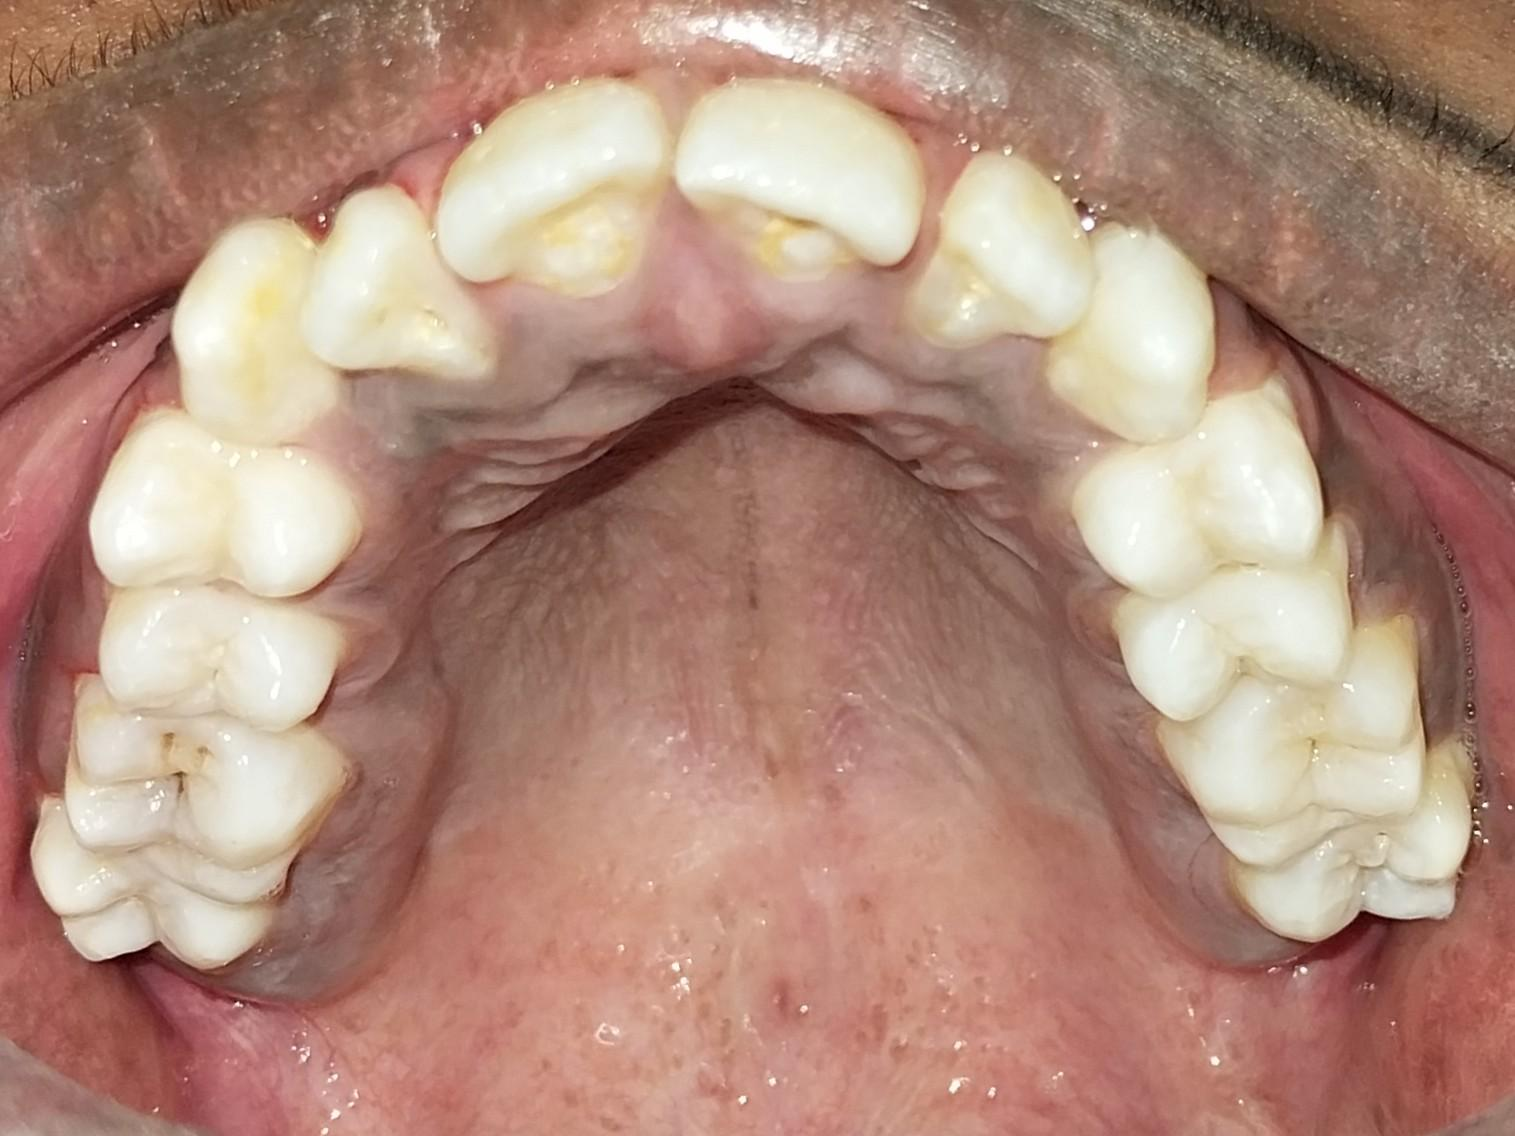D: (60, 678, 345, 904)
